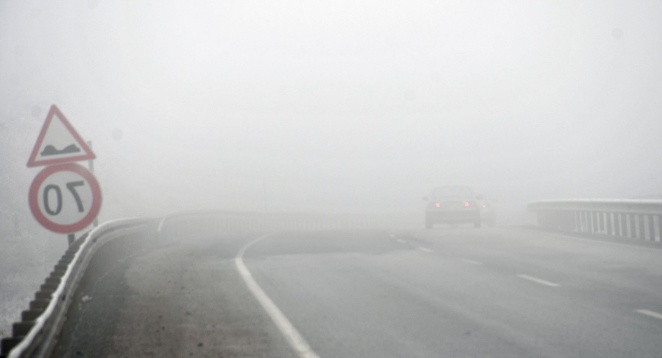Speed limit: (25, 163, 101, 232)
Uneven road: (13, 98, 102, 164)
